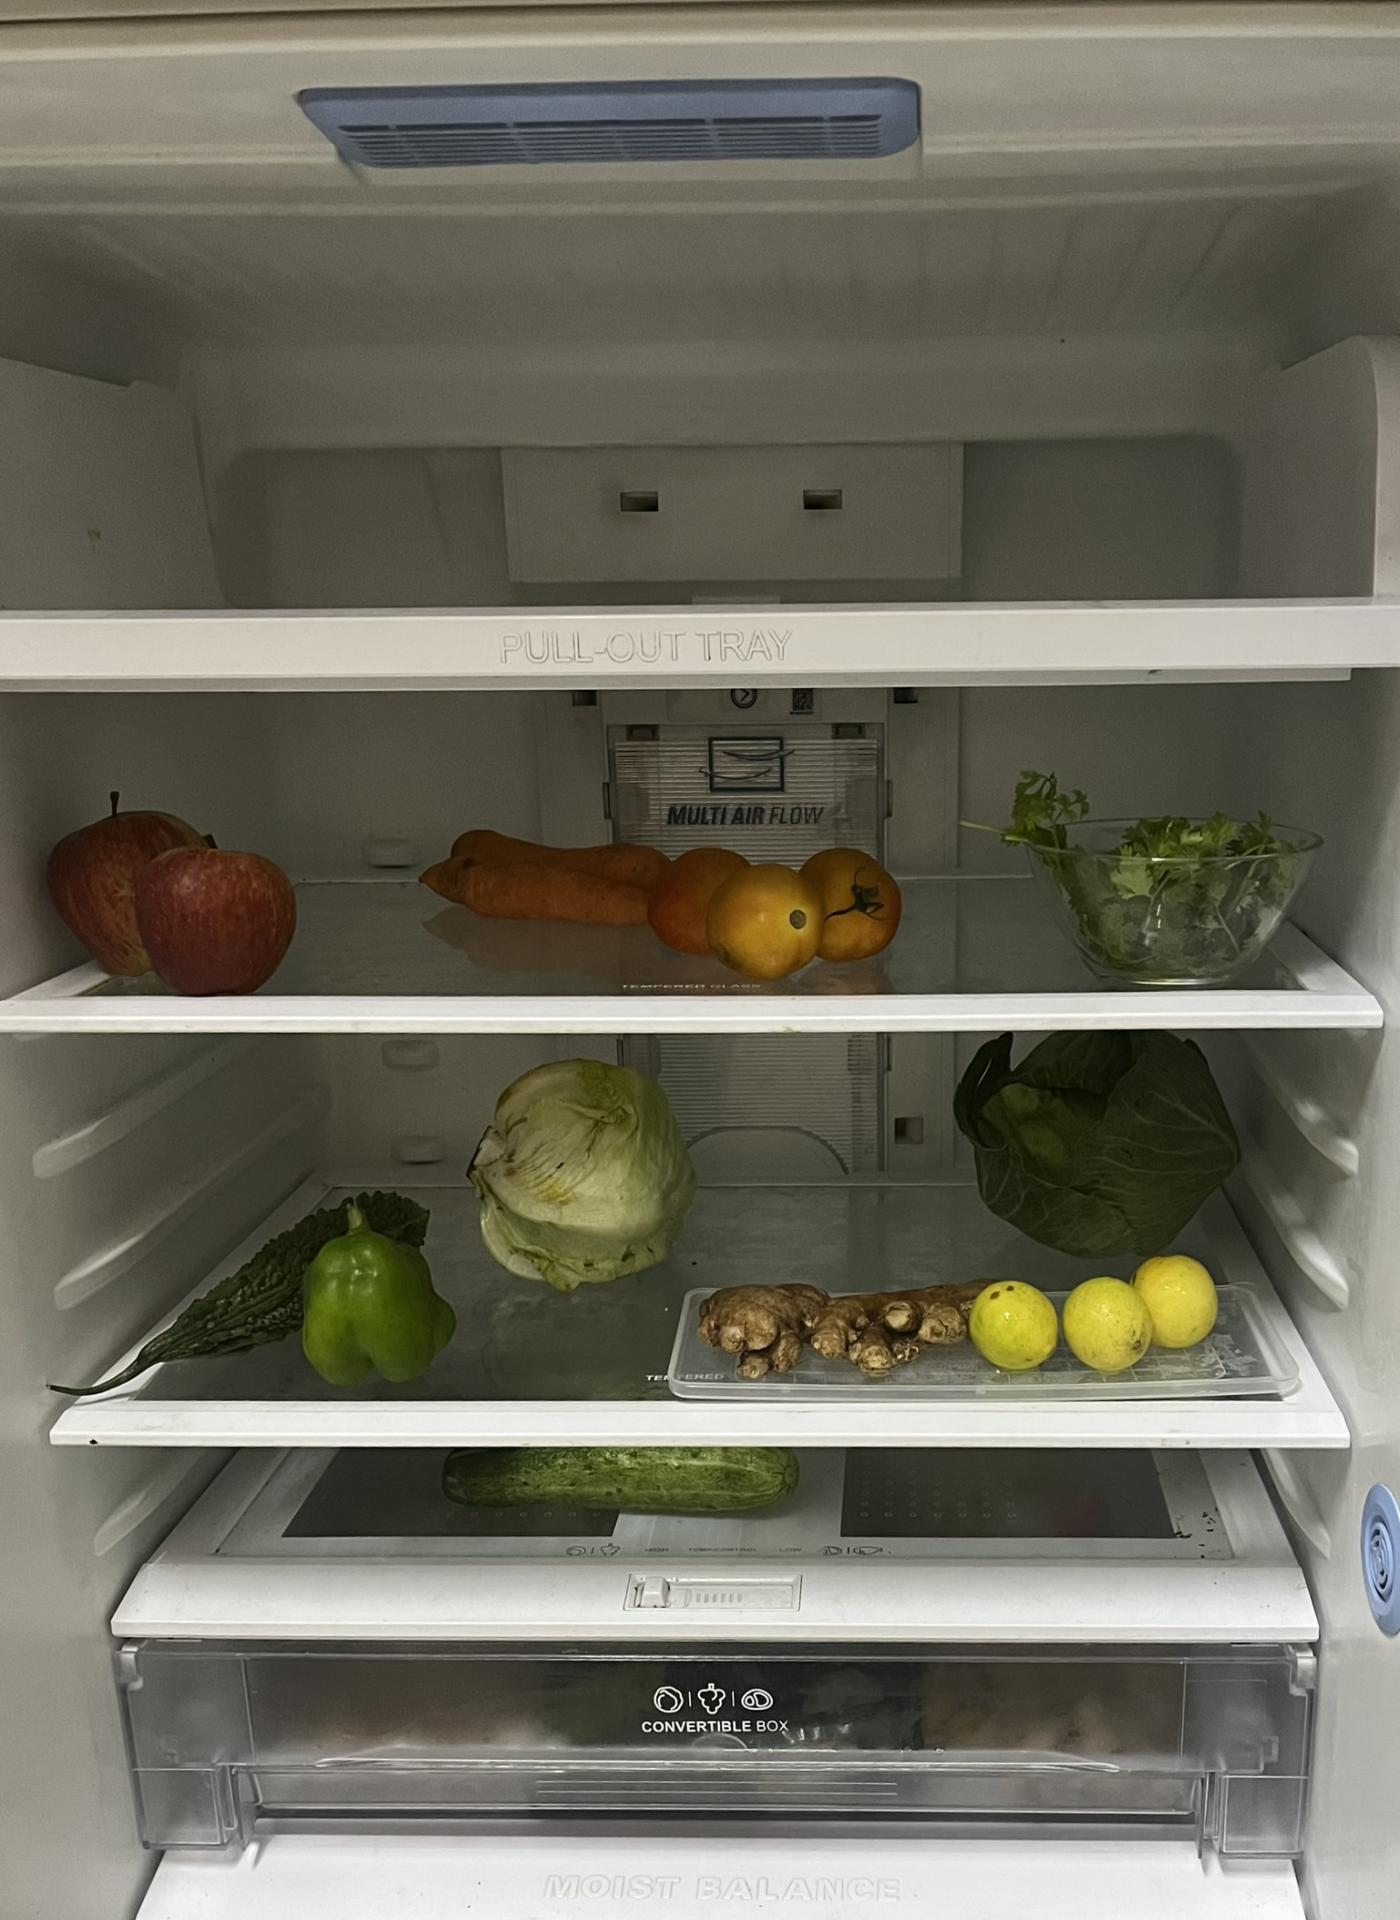apple: (49, 793, 307, 1003)
cabbage: (972, 1035, 1218, 1257)
capsicum: (292, 1209, 437, 1385)
carrots: (425, 827, 662, 932)
coriander: (1021, 769, 1303, 963)
ginger: (696, 1275, 969, 1374)
lemon: (969, 1251, 1240, 1374)
lettuce: (474, 1063, 681, 1294)
tomato: (659, 844, 905, 975)
